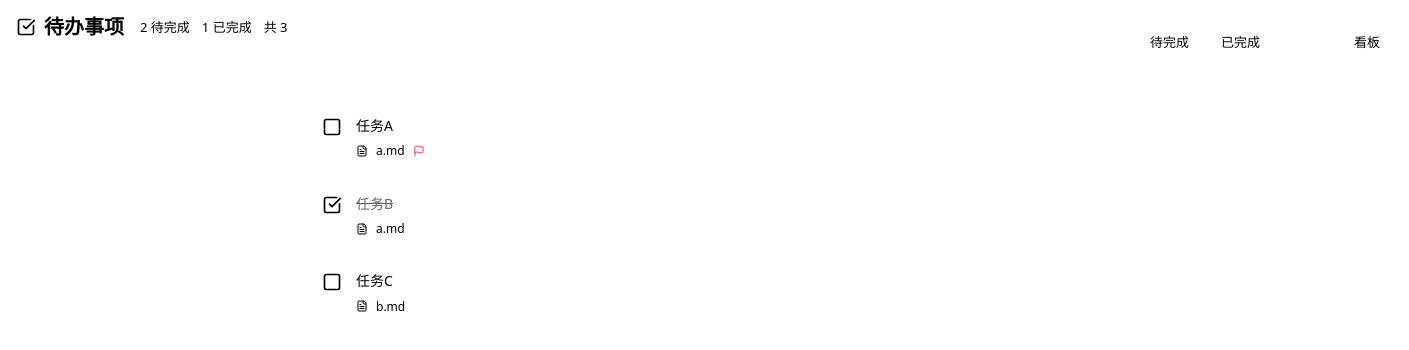
Test: TodosView kanban › 切换到看板（按状态）显示两列且计数正确
Click the button "看板" at [1367, 42], box [1342,28,1392,55]
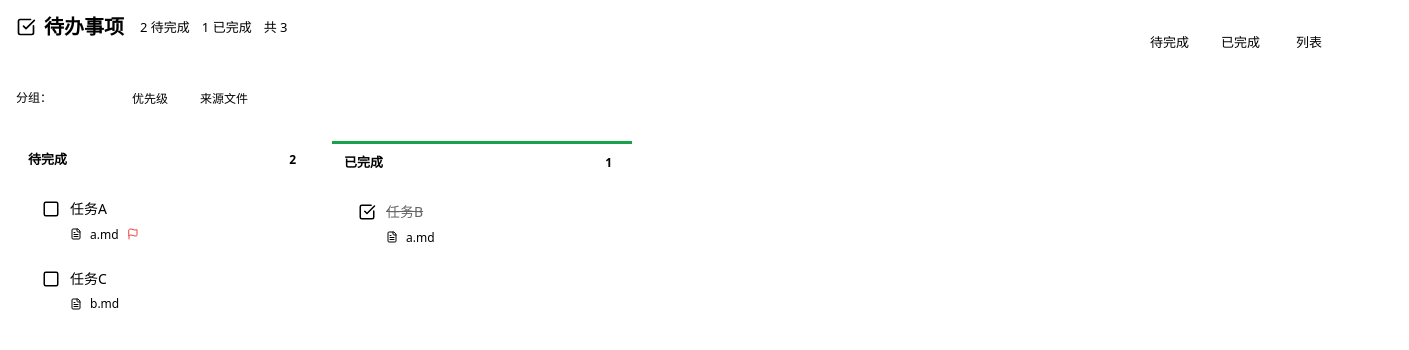
expect the number of elements with class "kanban-col" is 2: met, box [16,141,316,333]; [332,141,632,267]
expect the text with class "kanban-col-title" reads "待完成": met, box [28,150,67,168]
